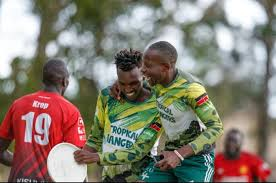disc: (47, 143, 89, 183)
